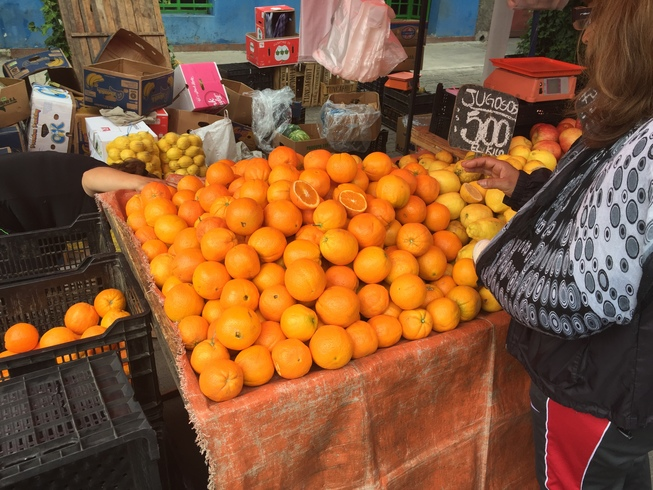precio: (445, 79, 522, 159)
